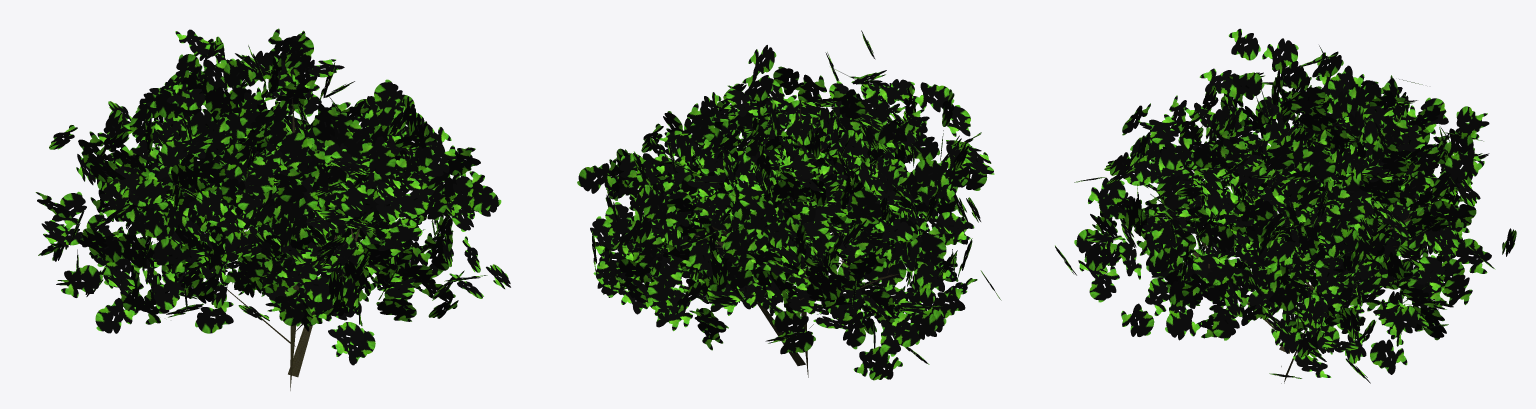
The model's file is understory_laurel_v01_LOD2.fbx.
The picture shows the model from 3 angles, left to right: view 1: azimuth 30°, elevation 25°; view 2: azimuth 150°, elevation 25°; view 3: azimuth 270°, elevation 25°; orthographic projection. The views are drawn at different scales.
Visible parts, largest first — view 1: understory_laurel_v01_LOD2; view 2: understory_laurel_v01_LOD2; view 3: understory_laurel_v01_LOD2.
Boxes of the visible parts, left/top/right/bottom form: understory_laurel_v01_LOD2: left=35, top=28, right=510, bottom=390; understory_laurel_v01_LOD2: left=577, top=30, right=1001, bottom=380; understory_laurel_v01_LOD2: left=1055, top=28, right=1516, bottom=383.
Bounding box in the file's own units: 858 × 839 × 603.
2 materials, 2 textured.
